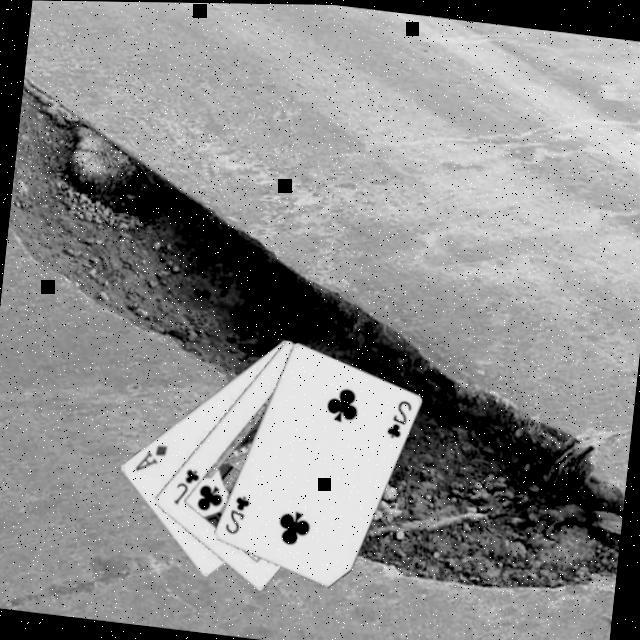2C: (222, 488, 255, 537), (384, 392, 417, 441)
AD: (133, 437, 172, 476)
JC: (171, 461, 205, 508)
